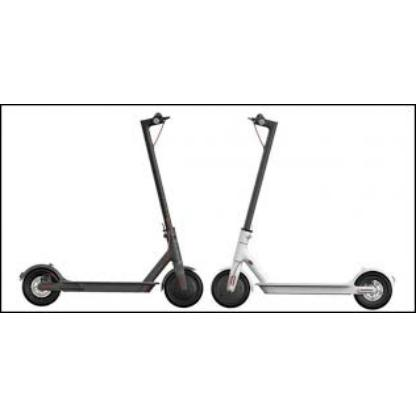bike: (19, 111, 408, 310)
